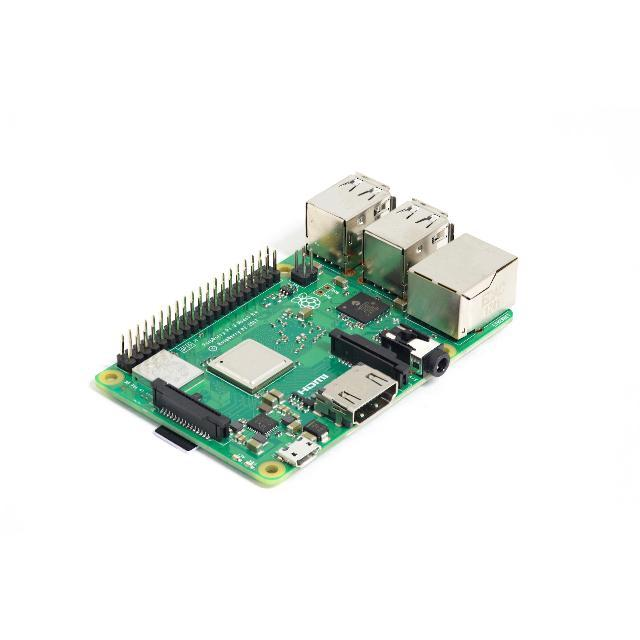Raspberry Pi 3 B-: (96, 174, 516, 484), (97, 174, 517, 484)
